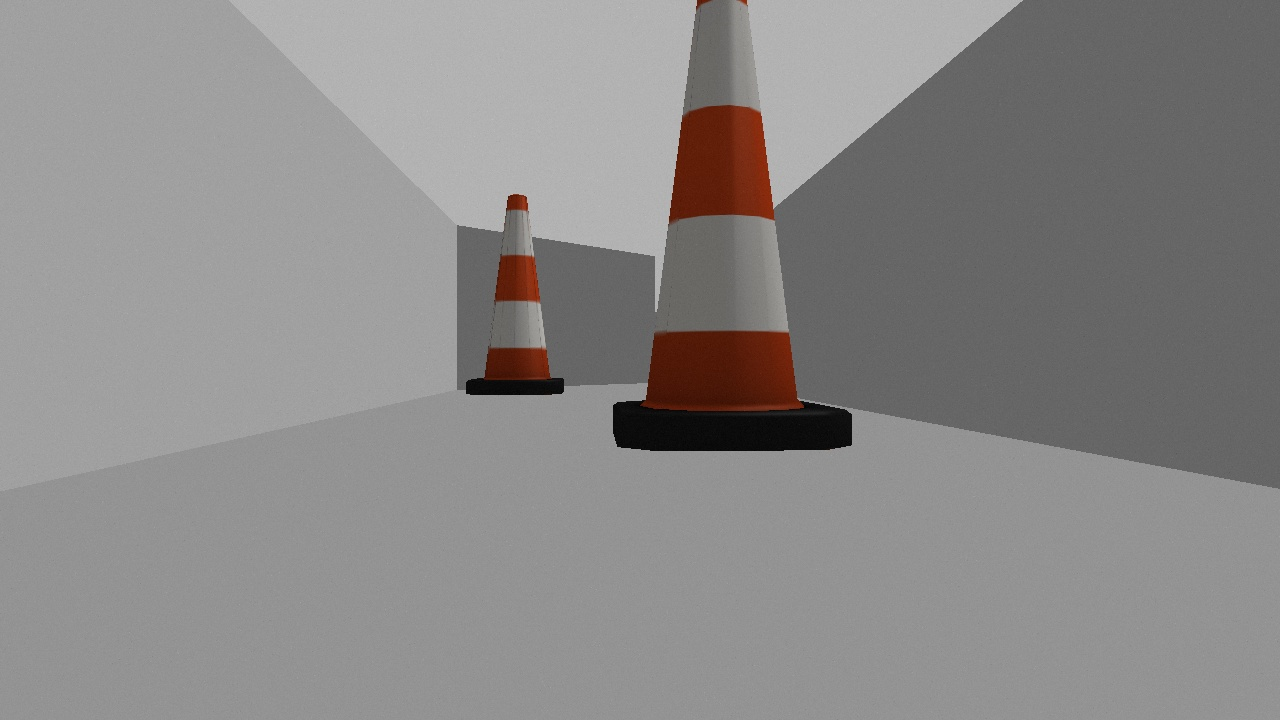barricade: (596, 1, 865, 465), (465, 186, 568, 405)
